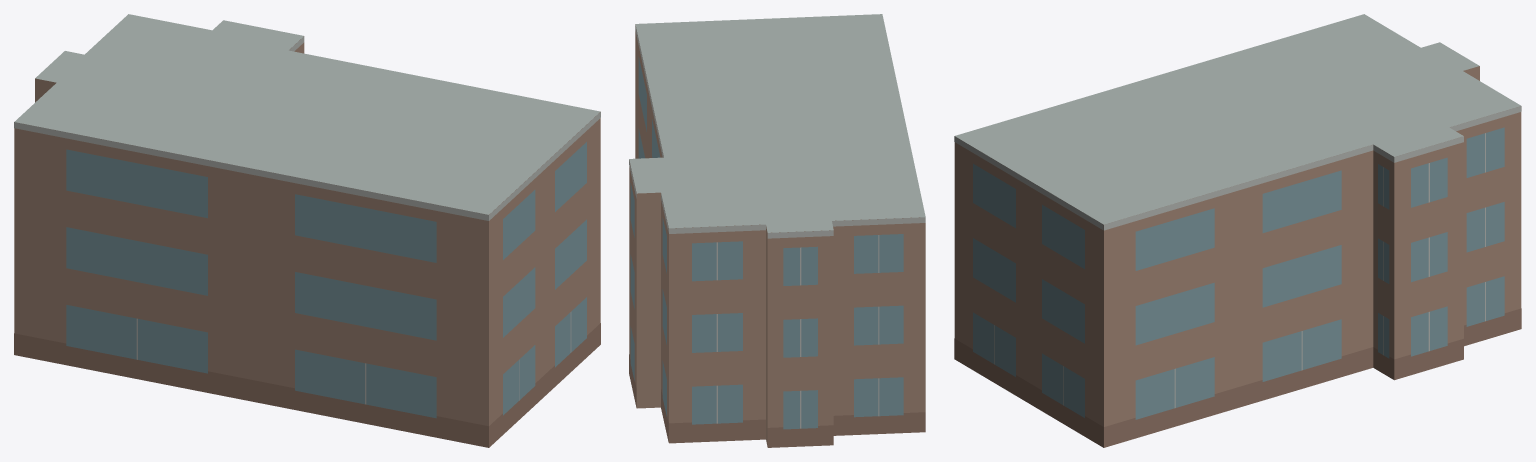
File: survey-upis-32839472.glb
3 renders of one model, left to right at view 1: azimuth 30°, elevation 25°; view 2: azimuth 150°, elevation 25°; view 3: azimuth 270°, elevation 25°, orthographic. The views are drawn at different scales.
Visible parts, largest first — view 1: survey-upis-32839472.tmp; view 2: survey-upis-32839472.tmp; view 3: survey-upis-32839472.tmp.
Boxes of the visible parts, x1,y1,x2,y2 form: survey-upis-32839472.tmp: (14,14,600,447); survey-upis-32839472.tmp: (629,14,925,447); survey-upis-32839472.tmp: (954,14,1521,447).
Bounding box in the file's own units: 18.53 × 9.15 × 21.07.
